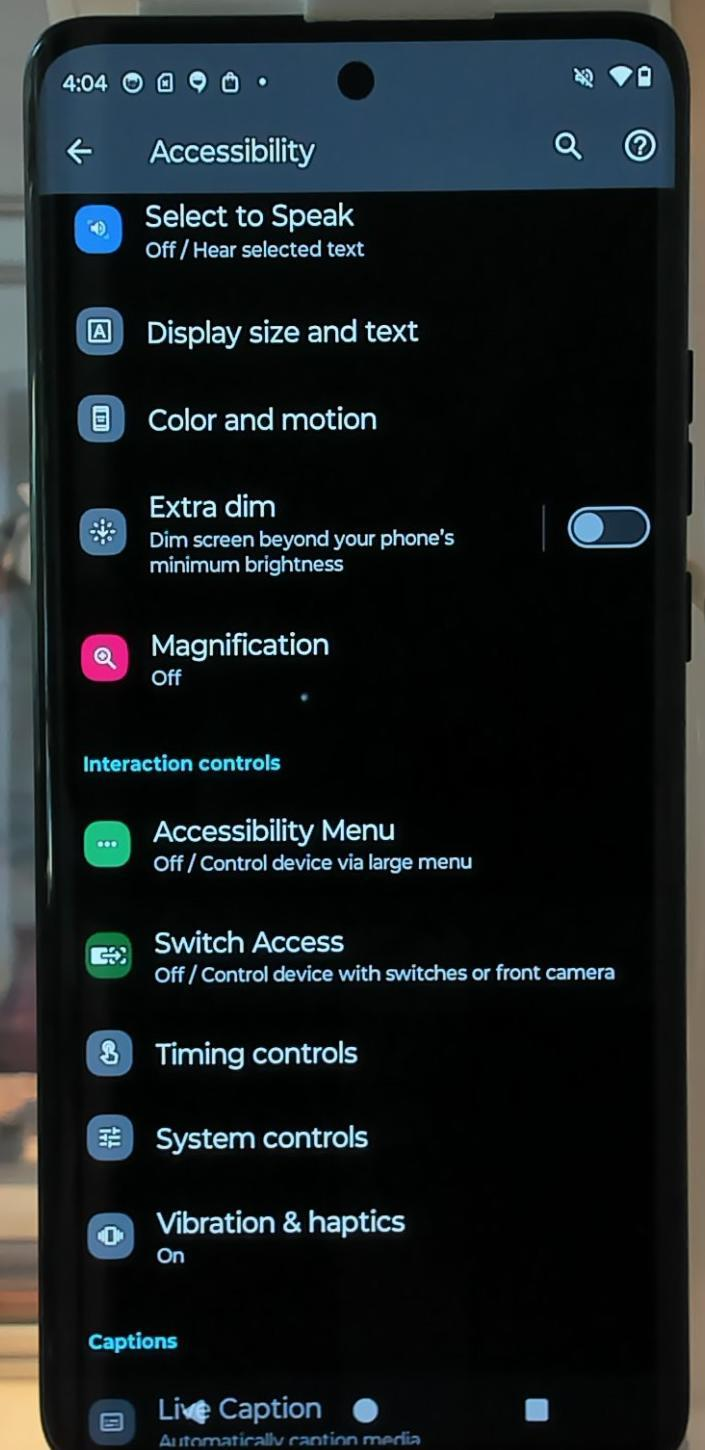Checkbox: (68, 480, 659, 583)
